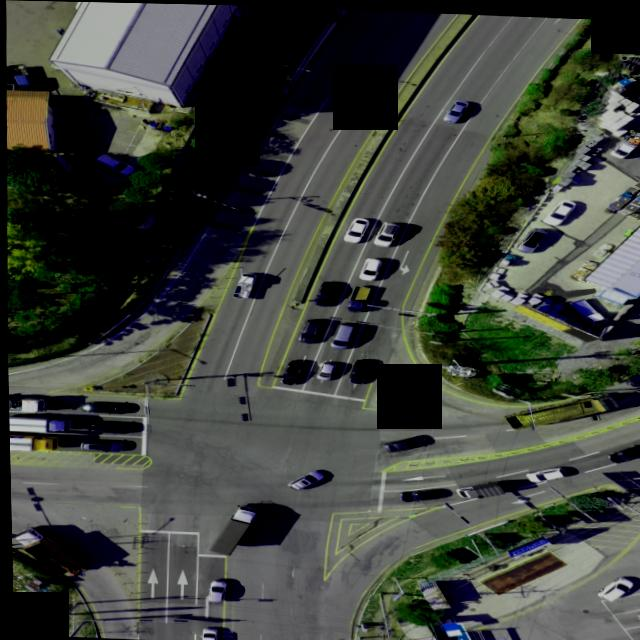car: (380, 430, 432, 451), (594, 573, 631, 598), (544, 197, 577, 224), (93, 151, 133, 172), (287, 466, 325, 488), (399, 486, 450, 502), (80, 401, 135, 415), (523, 464, 566, 481), (343, 215, 370, 240), (607, 440, 640, 460), (330, 323, 355, 349), (516, 226, 545, 248), (88, 420, 133, 434), (281, 357, 305, 383), (348, 355, 372, 381), (356, 255, 381, 279), (373, 220, 397, 244), (314, 279, 338, 303), (445, 99, 470, 122), (297, 315, 320, 340), (79, 440, 123, 453), (206, 577, 226, 601), (315, 359, 334, 377), (199, 626, 217, 640), (11, 609, 18, 633)
medium_truck: (504, 394, 619, 431), (9, 529, 86, 575), (207, 506, 259, 559), (7, 414, 68, 435), (8, 436, 62, 454), (7, 394, 45, 413)
small_truck: (453, 478, 504, 500), (569, 295, 607, 320), (233, 270, 258, 297), (346, 282, 370, 308), (6, 60, 28, 85)
